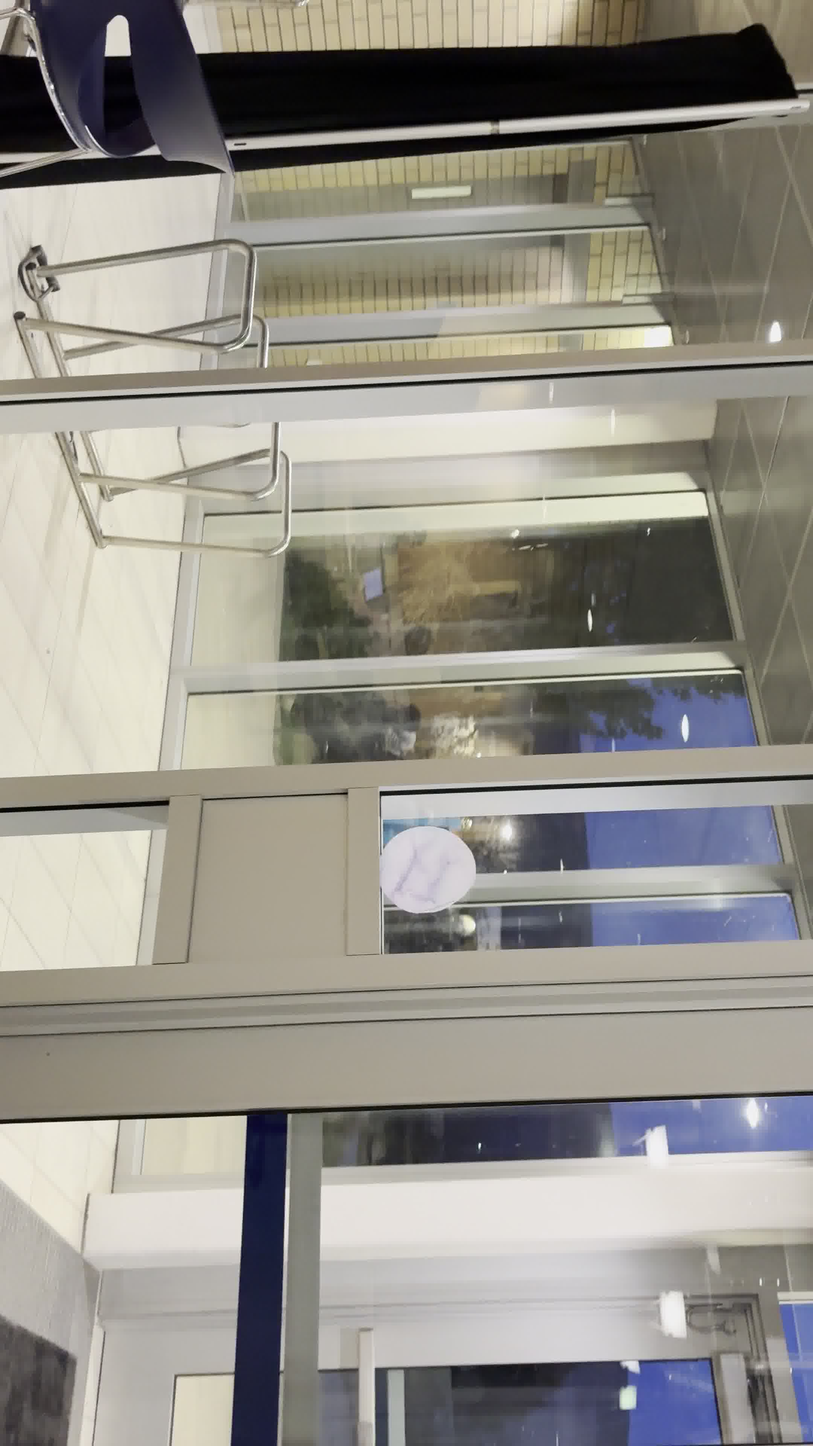Target: (377, 824, 479, 915)
